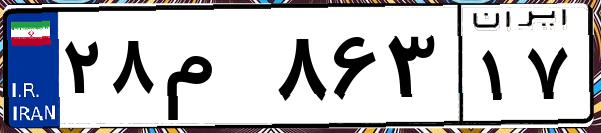1: (475, 38, 525, 113)
2: (57, 26, 110, 100)
3: (385, 28, 445, 110)
6: (330, 28, 385, 110)
7: (525, 38, 570, 115)
8: (270, 28, 330, 110), (110, 28, 158, 98)
م: (158, 20, 270, 120)
